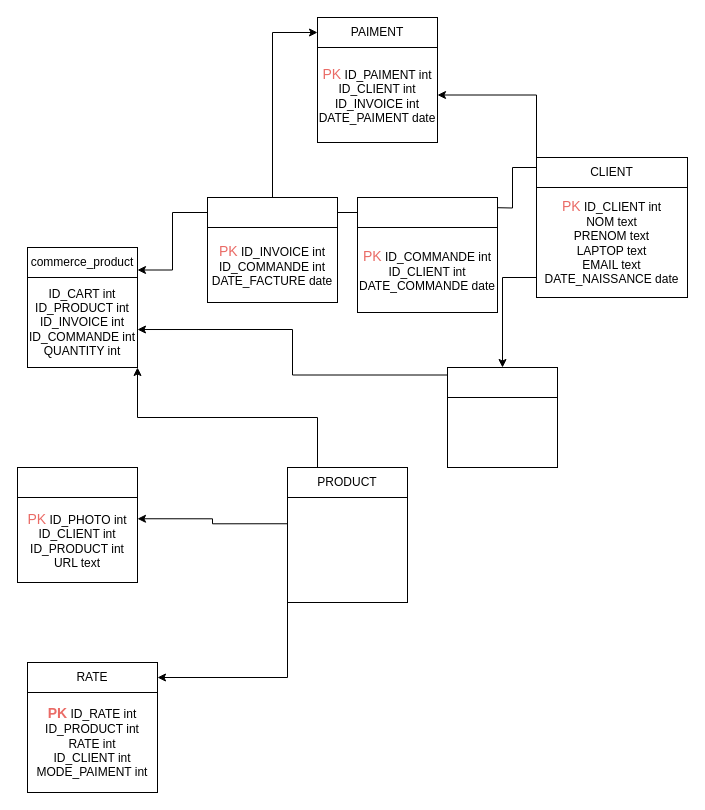
The diagram is 705 pixels wide and 810 high, and some of its shapes have lost their labels. Each missing label, with the centre of its shape:
"CART" goes at point 502,382.
"COMMANDE" goes at point 427,212.
"INVOICE" goes at point 272,212.
"PHOTO" goes at point 77,482.
"PK ID_CART int ID_CLIENT int DATE_ACHAT date" goes at point 502,432.
"PK ID_PRODUCT int NOM text DESCRIPTION text PRIX real STOCK int" goes at point 347,549.
